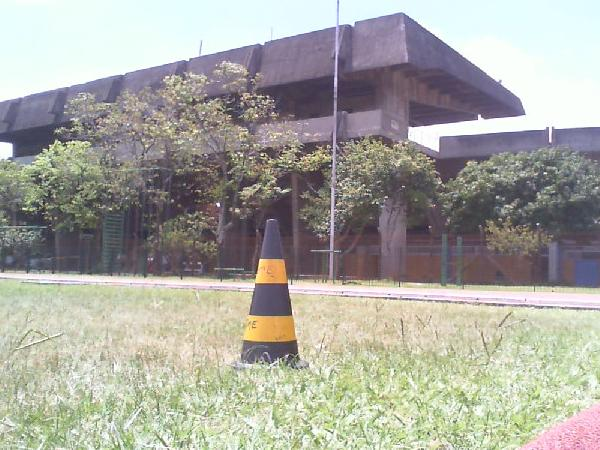0 cone: (228, 220, 309, 369)
